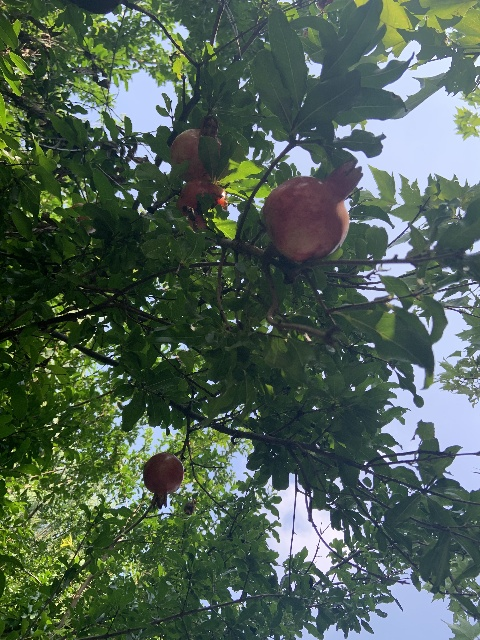ripe: (263, 160, 363, 262), (170, 115, 222, 180), (176, 180, 228, 229), (142, 452, 184, 509)
